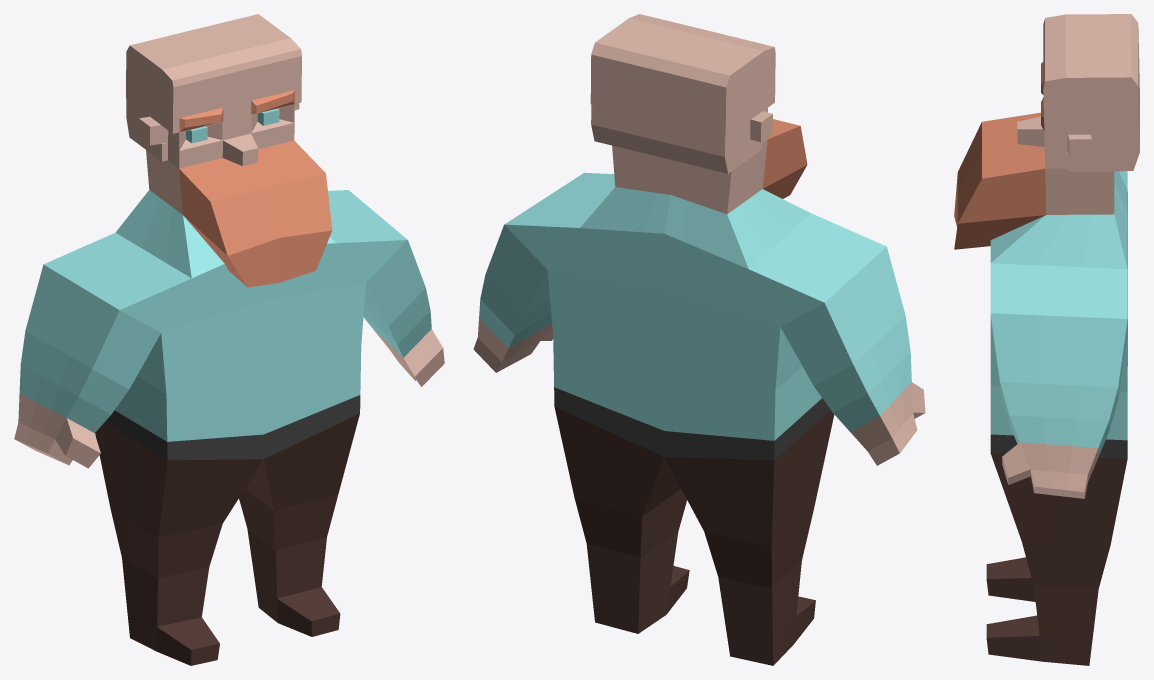
The model's file is QuestGiver1.fbx.
The picture shows the model from 3 angles, left to right: view 1: azimuth 30°, elevation 25°; view 2: azimuth 150°, elevation 25°; view 3: azimuth 270°, elevation 25°; orthographic projection. The views are drawn at different scales.
Parts seen in each view (by area): view 1: Cube; view 2: Cube; view 3: Cube.
Boxes of the visible parts, x1,y1,x2,y2 form: Cube: (14,14,444,665); Cube: (473,14,925,665); Cube: (954,14,1139,665).
Size of the model in its own units: 97.49 by 132 by 38.2.
